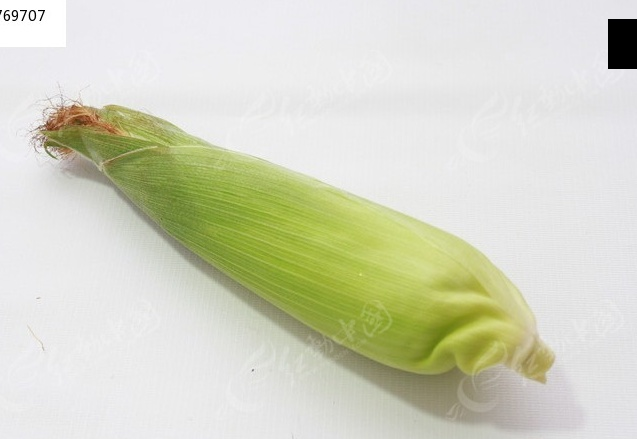corn_plant: (27, 83, 567, 394)
